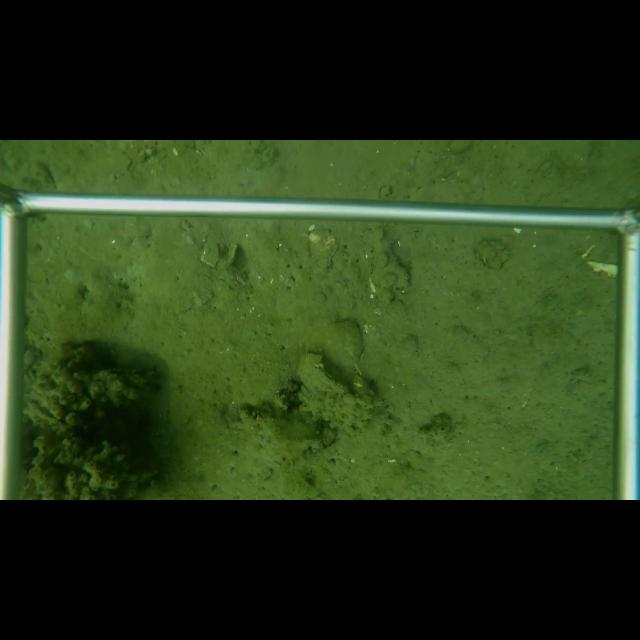Oyster-Closed: (294, 348, 389, 441)
